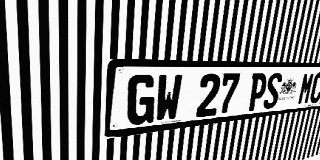2: (196, 73, 221, 117)
7: (216, 73, 240, 115)
C: (308, 72, 320, 104)
G: (126, 74, 157, 126)
M: (297, 72, 315, 105)
P: (246, 73, 268, 111)
S: (262, 73, 283, 109)
W: (154, 74, 183, 123)
